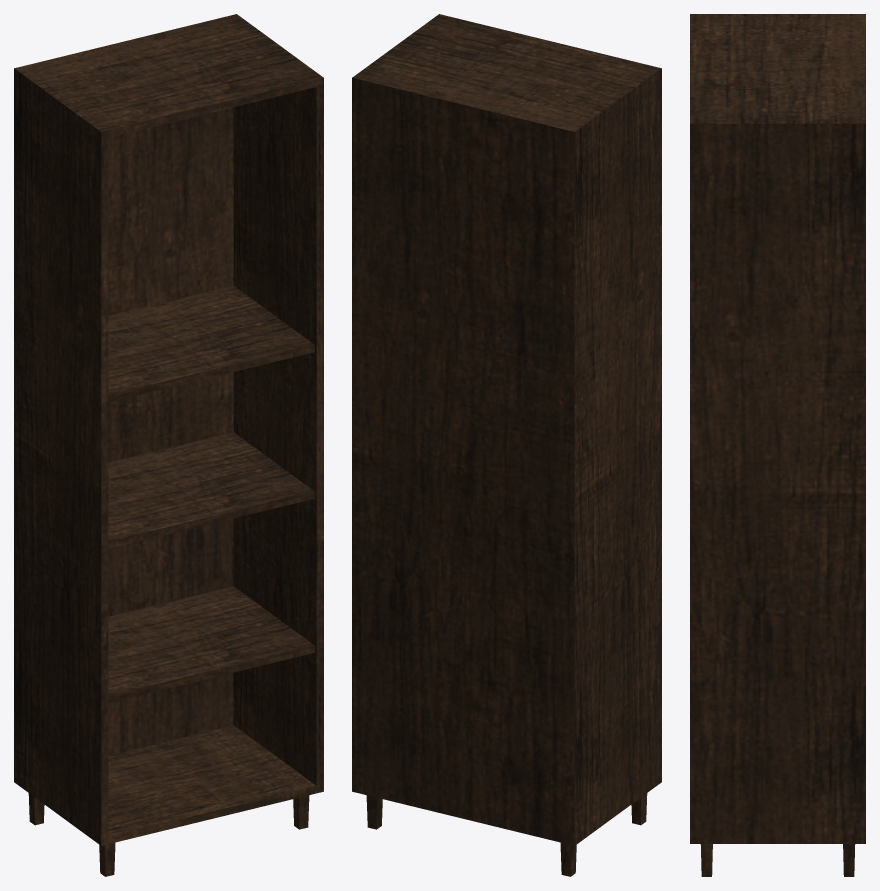
File: shelf_mp_1_1.obj
3 renders of one model, left to right at view 1: azimuth 30°, elevation 25°; view 2: azimuth 150°, elevation 25°; view 3: azimuth 270°, elevation 25°, orthographic.
Parts seen in each view (by area): view 1: shelf_mp_1_1; view 2: shelf_mp_1_1; view 3: shelf_mp_1_1.
Boxes of the visible parts, x1,y1,x2,y2 form: shelf_mp_1_1: [14, 14, 323, 876]; shelf_mp_1_1: [352, 14, 661, 876]; shelf_mp_1_1: [690, 14, 865, 876].
Bounding box in the file's own units: 0.62 × 2 × 0.42.
